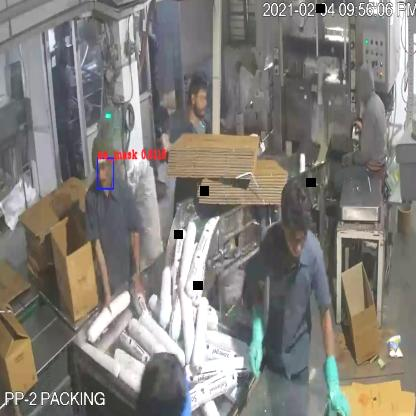glove: (320, 302, 352, 416), (249, 294, 268, 385)
no_glove: (88, 226, 118, 327), (126, 222, 151, 307)
